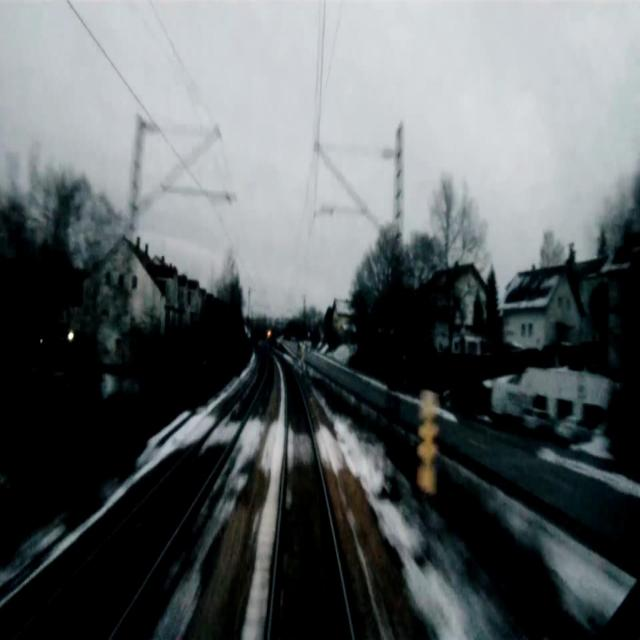rail-track: (26, 350, 265, 639), (272, 359, 351, 639)
